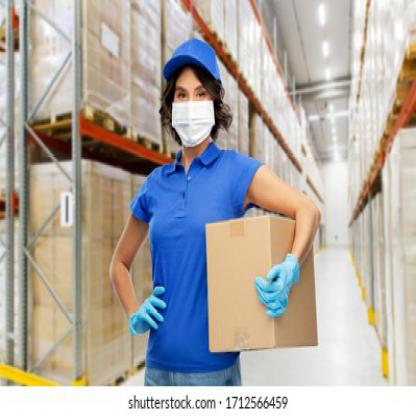with_gloves: (254, 254, 300, 318), (130, 286, 167, 334)
